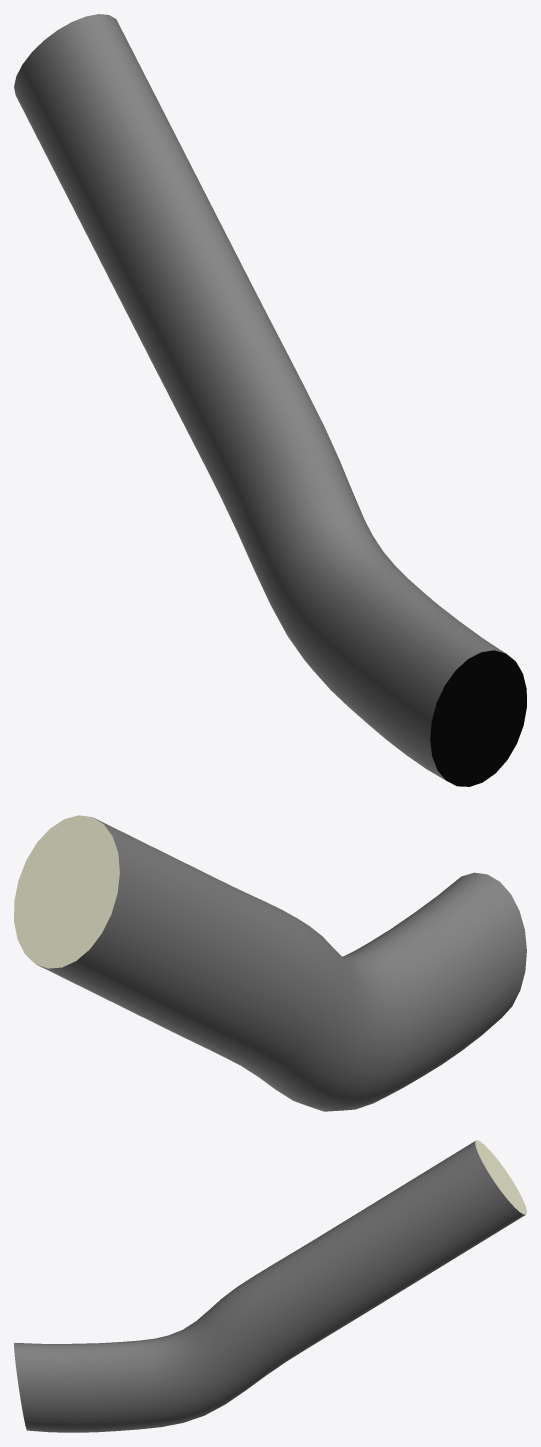
3 views of the same model, one above another, from view 1: azimuth 30°, elevation 25°; view 2: azimuth 150°, elevation 25°; view 3: azimuth 270°, elevation 25° (orthographic). The views are drawn at different scales.
Visible parts, largest first — view 1: 烟蒂; view 2: 烟蒂; view 3: 烟蒂.
Boxes of the visible parts, bbox=[...] form: 烟蒂: bbox=[14, 14, 526, 786]; 烟蒂: bbox=[14, 815, 526, 1111]; 烟蒂: bbox=[14, 1140, 526, 1432].
Bounding box in the file's own units: 3.38 × 16.58 × 26.76.
